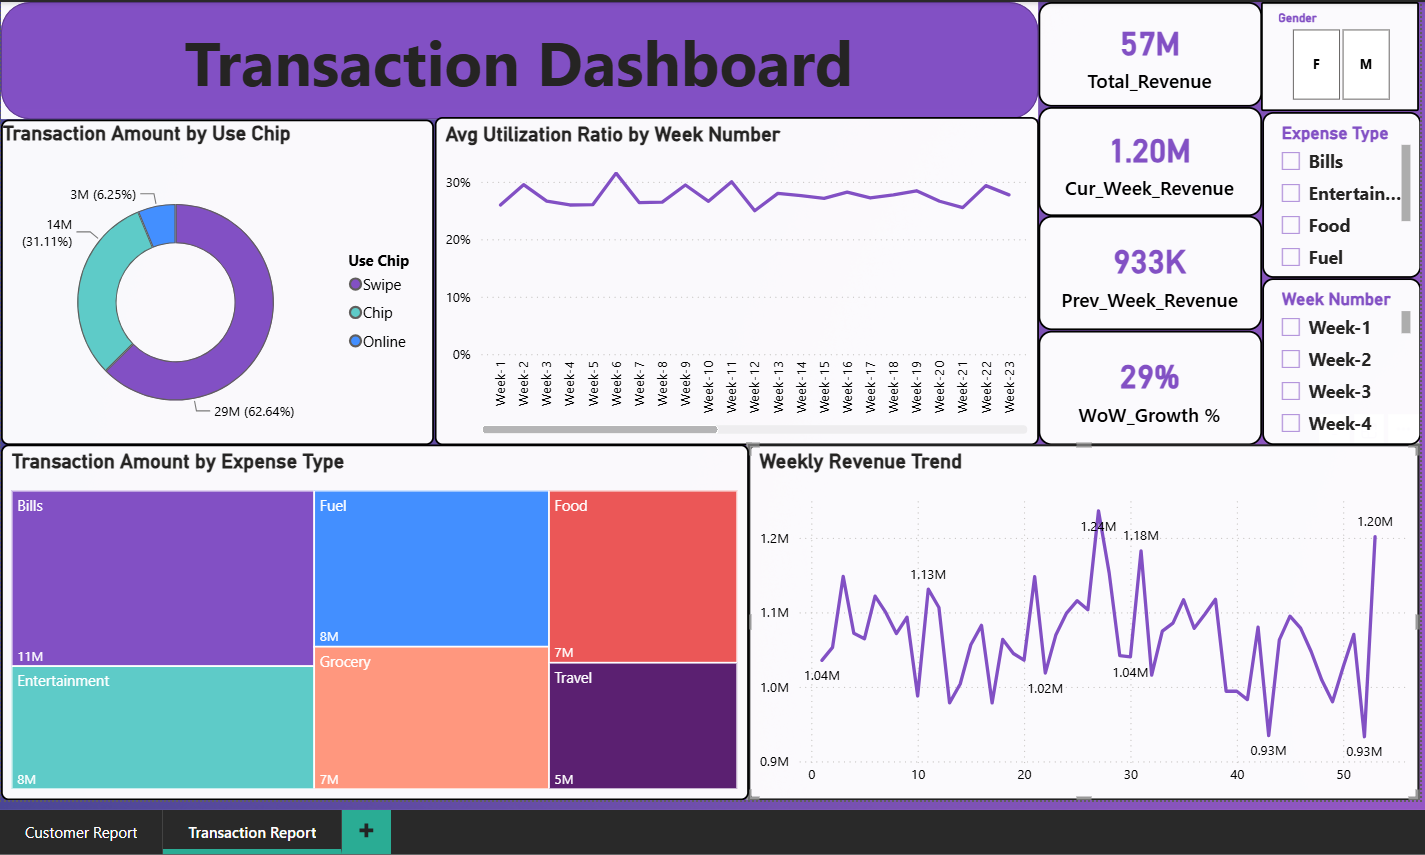

The dashboard page shown, as its layout file describes it:
{"tool":"powerbi","page":{"name":"Transaction Report","canvas":[1280,720],"ordinal":1},"visuals":[{"type":"slicer","fields":{"Values":["Customer.Gender"]},"box":[1135.7,0,142.7,98.8],"z":0},{"type":"shape","box":[0,0,935.5,105.7],"z":1000},{"type":"textbox","box":[13.7,10,906.8,87.1],"z":2000},{"type":"card","fields":{"Values":["Customer.Total_Revenue"]},"box":[935.5,0,201.5,94.5],"z":3000},{"type":"card","fields":{"Values":["Customer.Cur_Week_Revenue"]},"box":[935.5,94.5,201.5,98.3],"z":4000},{"type":"card","fields":{"Values":["Customer.WoW_Revenue_Growth %"]},"box":[935.5,296.1,201.5,103.2],"z":5000},{"type":"card","fields":{"Values":["Customer.Previous_Week_Revenue"]},"box":[935.5,192.8,201.5,103.2],"z":6000},{"type":"donutChart","title":"Transaction_Amt by Use Chip","fields":{"Category":["Transaction.Use Chip"],"Y":["Sum(Transaction.Total_Trans_Amt)"]},"box":[0,105.7,390.6,293.6],"z":7000},{"type":"lineChart","fields":{"Y":["Customer.Avg_Utilization_Ratio"],"Category":["Transaction.Week_Num"]},"box":[390.6,103.2,544.9,296.1],"z":8000},{"type":"lineChart","title":"Revenue by Week_Num_Sort","fields":{"Category":["Transaction.Week_Num_Sort"],"Y":["Customer.Total_Revenue"]},"box":[674.2,399.3,604.6,320.9],"z":9000},{"type":"treemap","title":" Transaction_Amt by Exp Type","fields":{"Group":["Transaction.Exp Type"],"Values":["Sum(Transaction.Total_Trans_Amt)"]},"box":[0,399.3,674.2,320.9],"z":10000},{"type":"slicer","fields":{"Values":["Transaction.Week_Num"]},"box":[1137,248.8,143.1,150.5],"z":11000},{"type":"slicer","fields":{"Values":["Transaction.Exp Type"]},"box":[1137,99.5,143.1,149.3],"z":12000}]}

Visuals, with their boxes on the page's 1280x720 design canvas (x1, y1, x2, y2). These are canvas units, not pixel positions in the 1425x855 screenshot, which may show the page scaled, cropped or inside an application window:
slicer - Customer.Gender: l=1136, t=0, r=1278, b=99
shape: l=0, t=0, r=936, b=106
textbox: l=14, t=10, r=920, b=97
card - Customer.Total_Revenue: l=936, t=0, r=1137, b=94
card - Customer.Cur_Week_Revenue: l=936, t=94, r=1137, b=193
card - Customer.WoW_Revenue_Growth %: l=936, t=296, r=1137, b=399
card - Customer.Previous_Week_Revenue: l=936, t=193, r=1137, b=296
"Transaction_Amt by Use Chip" donutChart: l=0, t=106, r=391, b=399
lineChart - Customer.Avg_Utilization_Ratio x Transaction.Week_Num: l=391, t=103, r=936, b=399
"Revenue by Week_Num_Sort" lineChart: l=674, t=399, r=1279, b=720
" Transaction_Amt by Exp Type" treemap: l=0, t=399, r=674, b=720
slicer - Transaction.Week_Num: l=1137, t=249, r=1280, b=399
slicer - Transaction.Exp Type: l=1137, t=100, r=1280, b=249
